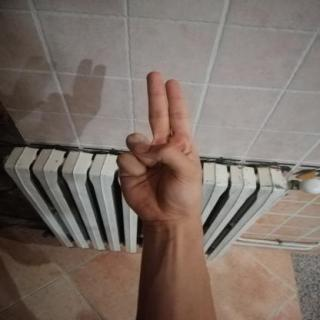TA: (100, 62, 224, 230)
